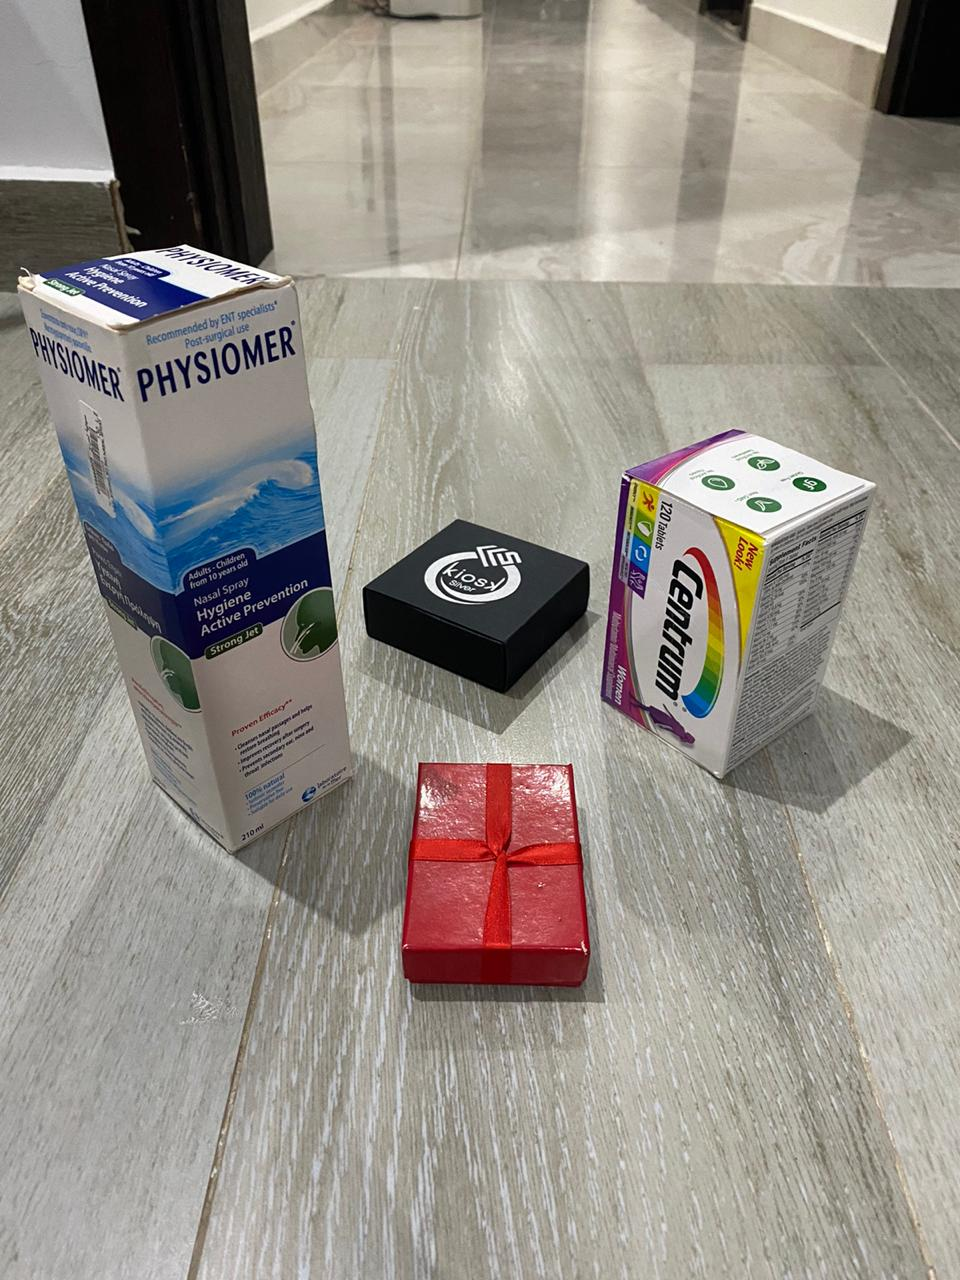Black Box: (405, 760, 593, 997)
Centrum: (597, 430, 882, 792)
Physiomer: (28, 242, 364, 857)
Red Box: (364, 513, 591, 700)
